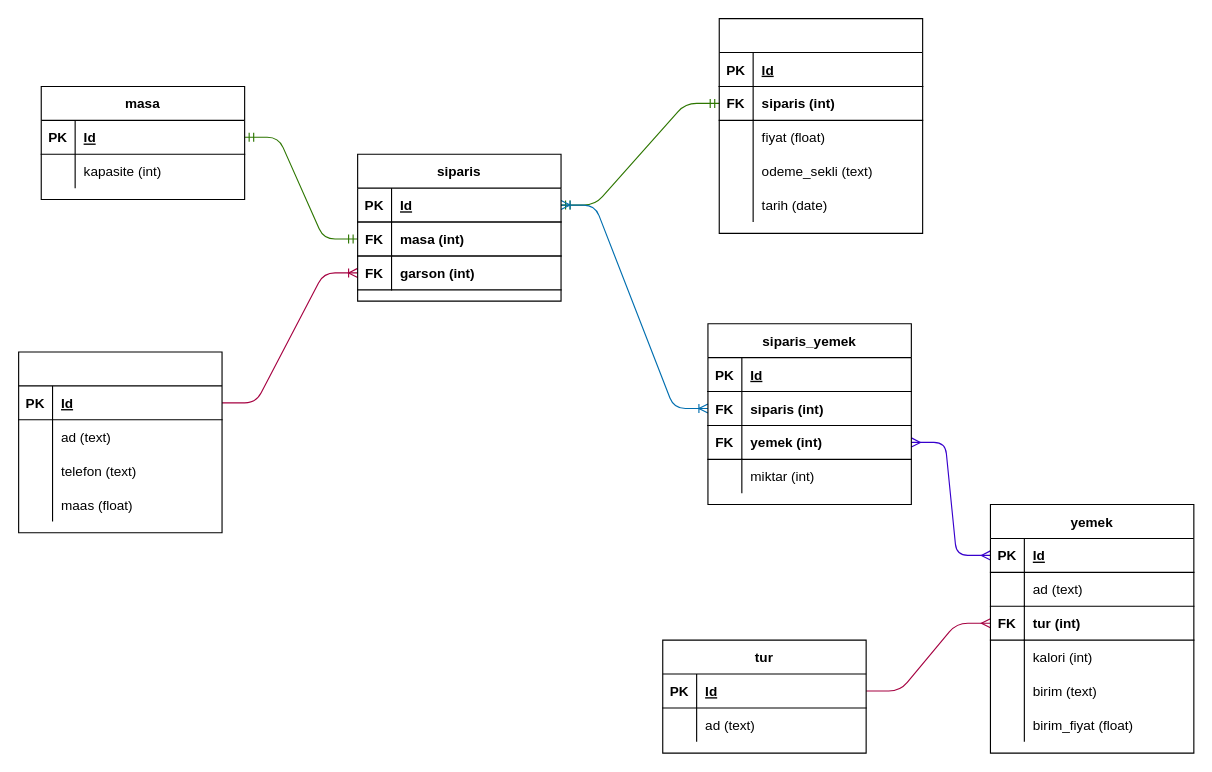
Some shapes in this 1212 by 772 pixel diagram are drawn without their labels. The box of each missing label's shape, as (x1, y1, x2, y2) in pixels:
fatura: (718, 18, 923, 233)
garson: (18, 351, 222, 533)
